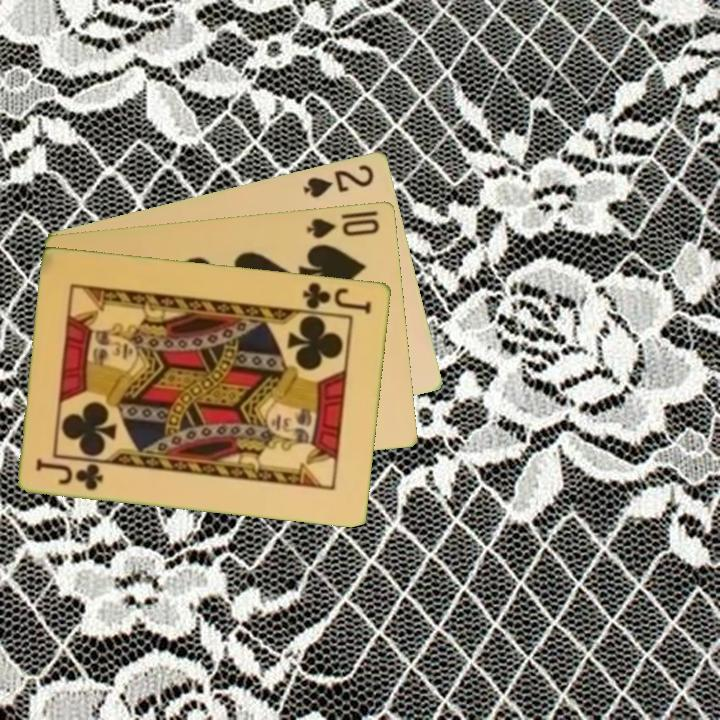10s: (304, 214, 383, 241)
2s: (300, 160, 377, 200)
Jc: (300, 278, 375, 317), (32, 454, 106, 493)
